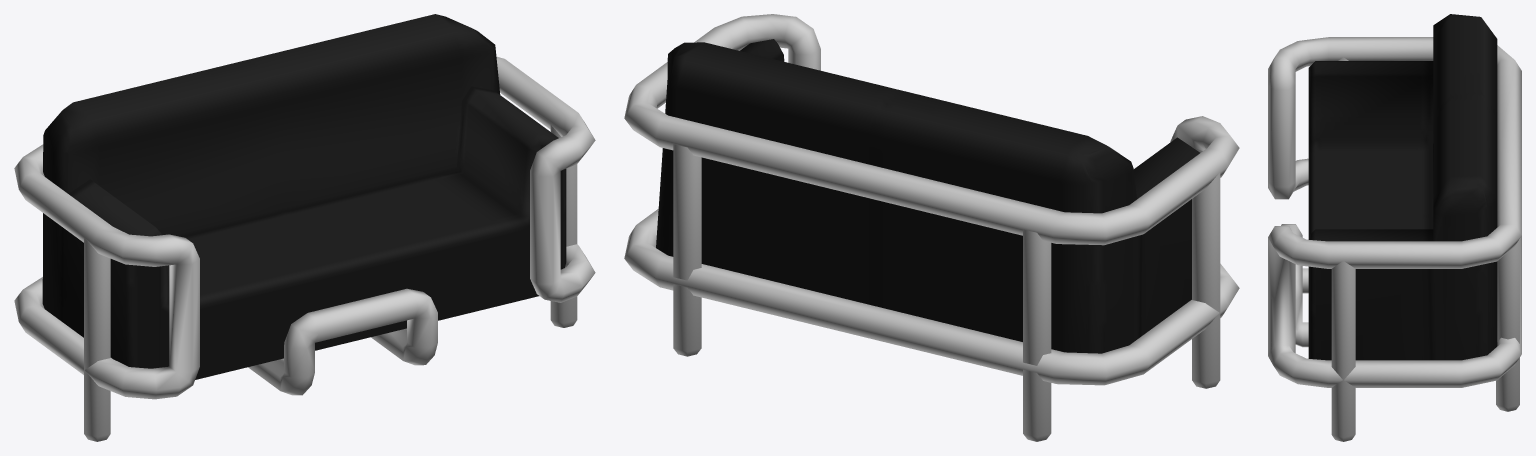
Rendered from rmk_pip_chairL.dae.
3 views of the same model, side by side, from view 1: azimuth 30°, elevation 25°; view 2: azimuth 150°, elevation 25°; view 3: azimuth 270°, elevation 25° (orthographic). The views are drawn at different scales.
Visible parts, largest first — view 1: rmk_pip_chairL; view 2: rmk_pip_chairL; view 3: rmk_pip_chairL.
Boxes of the visible parts, left/top/right/bottom form: rmk_pip_chairL: left=14, top=14, right=595, bottom=441; rmk_pip_chairL: left=624, top=14, right=1239, bottom=441; rmk_pip_chairL: left=1268, top=14, right=1521, bottom=441.
Size of the model in its own units: 62.36 by 32.17 by 30.94.
2 materials, 1 textured.
